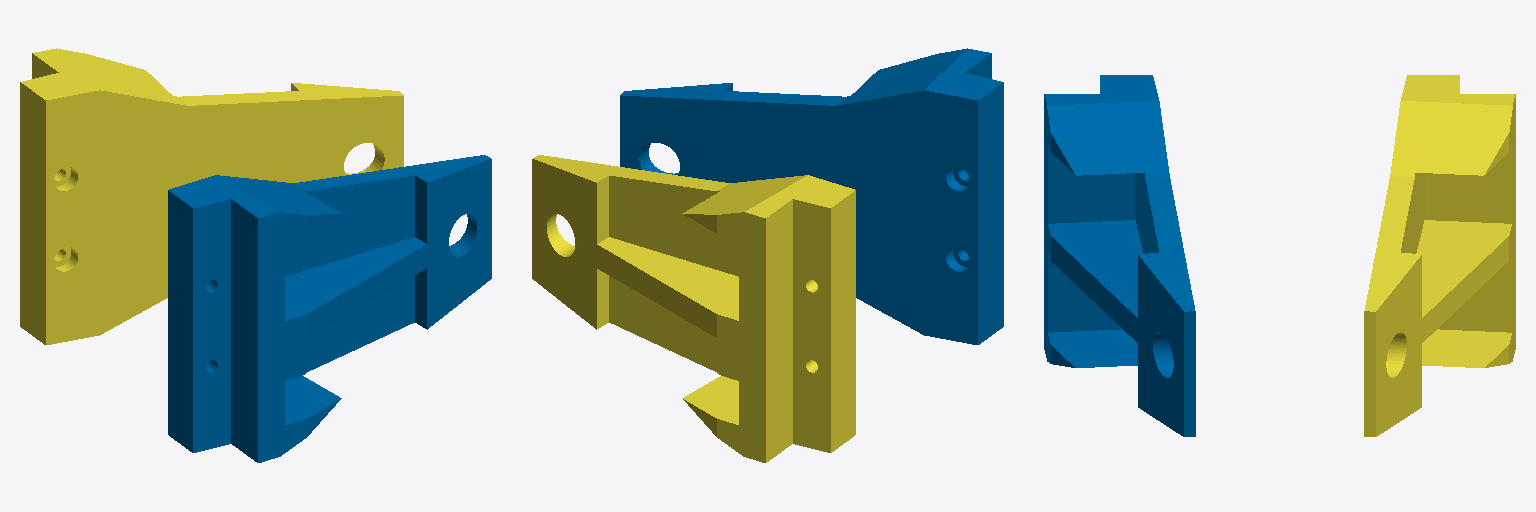
robot.urdf — vx300s:
<?xml version="1.0" ?>
<!-- =================================================================================== -->
<!-- |    This document was autogenerated by xacro from vx300s.urdf.xacro              | -->
<!-- |    EDITING THIS FILE BY HAND IS NOT RECOMMENDED                                 | -->
<!-- =================================================================================== -->
<robot name="vx300s">
  <!-- <material name="interbotix_black">
    <texture filename="meshes/interbotix_black.png"/>
  </material> -->
  <link name="vx300s/base_link">
    <visual>
      <origin rpy="0 0 1.5707963267948966" xyz="0 0 0"/>
      <geometry>
        <mesh filename="meshes/vx300s_v3_meshes/vx300s_1_base.stl" scale="0.001 0.001 0.001"/>
      </geometry>
      <!-- <material name="interbotix_black"/> -->
    </visual>
    <collision>
      <origin rpy="0 0 1.5707963267948966" xyz="0 0 0"/>
      <geometry>
        <mesh filename="meshes/vx300s_v3_meshes/vx300s_1_base.stl" scale="0.001 0.001 0.001"/>
      </geometry>
    </collision>
    <inertial>
      <origin rpy="0 0 1.5707963267948966" xyz="-0.0534774000 -0.0005625750 0.0205961000"/>
      <mass value="0.969034"/>
      <inertia ixx="0.0060240000" ixy="0.0000471300" ixz="0.0000038510" iyy="0.0017000000" iyz="-0.0000841500" izz="0.0071620000"/>
    </inertial>
  </link>
  <joint name="waist" type="revolute">
    <axis xyz="0 0 1"/>
    <limit effort="10" lower="-3.141582653589793" upper="3.141582653589793" velocity="3.141592653589793"/>
    <origin rpy="0 0 0" xyz="0 0 0.079"/>
    <parent link="vx300s/base_link"/>
    <child link="vx300s/shoulder_link"/>
    <dynamics friction="0.1"/>
  </joint>

  <link name="vx300s/shoulder_link">
    <visual>
      <origin rpy="0 0 1.5707963267948966" xyz="0 0 -0.003"/>
      <geometry>
        <mesh filename="meshes/vx300s_v3_meshes/vx300s_2_shoulder.stl" scale="0.001 0.001 0.001"/>
      </geometry>
      <!-- <material name="interbotix_black"/> -->
    </visual>
    <collision>
      <origin rpy="0 0 1.5707963267948966" xyz="0 0 -0.003"/>
      <geometry>
        <mesh filename="meshes/vx300s_v3_meshes/vx300s_2_shoulder.stl" scale="0.001 0.001 0.001"/>
      </geometry>
    </collision>
    <inertial>
      <origin rpy="0 0 1.5707963267948966" xyz="0.0002592330 -0.0000033552 0.0116129000"/>
      <mass value="0.798614"/>
      <inertia ixx="0.0009388000" ixy="-0.0000000010" ixz="-0.0000000191" iyy="0.0011380000" iyz="0.0000059568" izz="0.0012010000"/>
    </inertial>
  </link>
  <joint name="shoulder" type="revolute">
    <axis xyz="0 1 0"/>
    <limit effort="20" lower="-1.8500490071139892" upper="1.2566370614359172" velocity="3.141592653589793"/>
    <origin rpy="0 0 0" xyz="0 0 0.04805"/>
    <parent link="vx300s/shoulder_link"/>
    <child link="vx300s/upper_arm_link"/>
    <dynamics friction="0.1"/>
  </joint>

  <link name="vx300s/upper_arm_link">
    <visual>
      <origin rpy="0 0 1.5707963267948966" xyz="0 0 0"/>
      <geometry>
        <mesh filename="meshes/vx300s_v3_meshes/vx300s_3_upper_arm.stl" scale="0.001 0.001 0.001"/>
      </geometry>
      <!-- <material name="interbotix_black"/> -->
    </visual>
    <collision>
      <origin rpy="0 0 1.5707963267948966" xyz="0 0 0"/>
      <geometry>
        <mesh filename="meshes/vx300s_v3_meshes/vx300s_3_upper_arm.stl" scale="0.001 0.001 0.001"/>
      </geometry>
    </collision>
    <inertial>
      <origin rpy="0 0 1.5707963267948966" xyz="0.0206949000 0.0000000004 0.2264590000"/>
      <mass value="0.792592"/>
      <inertia ixx="0.0089250000" ixy="0.0000000000" ixz="0.0000000000" iyy="0.0089370000" iyz="0.0012010000" izz="0.0009357000"/>
    </inertial>
  </link>
  <joint name="elbow" type="revolute">
    <axis xyz="0 1 0"/>
    <limit effort="15" lower="-1.7627825445142729" upper="1.6057029118347832" velocity="3.141592653589793"/>
    <origin rpy="0 0 0" xyz="0.05955 0 0.3"/>
    <parent link="vx300s/upper_arm_link"/>
    <child link="vx300s/upper_forearm_link"/>
    <dynamics friction="0.1"/>
  </joint>

  <link name="vx300s/upper_forearm_link">
    <visual>
      <origin rpy="0 0 0" xyz="0 0 0"/>
      <geometry>
        <mesh filename="meshes/vx300s_v3_meshes/vx300s_4_upper_forearm.stl" scale="0.001 0.001 0.001"/>
      </geometry>
      <!-- <material name="interbotix_black"/> -->
    </visual>
    <collision>
      <origin rpy="0 0 0" xyz="0 0 0"/>
      <geometry>
        <mesh filename="meshes/vx300s_v3_meshes/vx300s_4_upper_forearm.stl" scale="0.001 0.001 0.001"/>
      </geometry>
    </collision>
    <inertial>
      <origin rpy="0 0 0" xyz="0.105723 0 0"/>
      <mass value="0.622228"/>
      <inertia ixx="0.0001524000" ixy="-0.0000188300" ixz="-0.0000084064" iyy="0.0013420000" iyz="0.0000012564" izz="0.0014410000"/>
    </inertial>
  </link>
  <joint name="forearm_roll" type="revolute">
    <axis xyz="1 0 0"/>
    <limit effort="2" lower="-3.141582653589793" upper="3.141582653589793" velocity="3.141592653589793"/>
    <origin rpy="0 0 0" xyz="0.2 0 0"/>
    <parent link="vx300s/upper_forearm_link"/>
    <child link="vx300s/lower_forearm_link"/>
    <dynamics friction="0.1"/>
  </joint>

  <link name="vx300s/lower_forearm_link">
    <visual>
      <origin rpy="3.141592653589793 0 0" xyz="0 0 0"/>
      <geometry>
        <mesh filename="meshes/vx300s_v3_meshes/vx300s_5_lower_forearm.stl" scale="0.001 0.001 0.001"/>
      </geometry>
      <material name="interbotix_black"/>
    </visual>
    <collision>
      <origin rpy="3.141592653589793 0 0" xyz="0 0 0"/>
      <geometry>
        <mesh filename="meshes/vx300s_v3_meshes/vx300s_5_lower_forearm.stl" scale="0.001 0.001 0.001"/>
      </geometry>
    </collision>
    <inertial>
      <origin rpy="3.141592653589793 0 0" xyz="0.0513477000 0.0068046200 0"/>
      <mass value="0.414823"/>
      <inertia ixx="0.0001753000" ixy="-0.0000852800" ixz="0" iyy="0.0005269000" iyz="0" izz="0.0005911000"/>
    </inertial>
  </link>
  <joint name="wrist_angle" type="revolute">
    <axis xyz="0 1 0"/>
    <limit effort="5" lower="-1.8675022996339325" upper="2.234021442552742" velocity="3.141592653589793"/>
    <origin rpy="0 0 0" xyz="0.1 0 0"/>
    <parent link="vx300s/lower_forearm_link"/>
    <child link="vx300s/wrist_link"/>
    <dynamics friction="0.1"/>
  </joint>

  <link name="vx300s/wrist_link">
    <visual>
      <origin rpy="0 0 1.5707963267948966" xyz="0 0 0"/>
      <geometry>
        <mesh filename="meshes/vx300s_v3_meshes/vx300s_6_wrist.stl" scale="0.001 0.001 0.001"/>
      </geometry>
      <!-- <material name="interbotix_black"/> -->
    </visual>
    <collision>
      <origin rpy="0 0 1.5707963267948966" xyz="0 0 0"/>
      <geometry>
        <mesh filename="meshes/vx300s_v3_meshes/vx300s_6_wrist.stl" scale="0.001 0.001 0.001"/>
      </geometry>
    </collision>
    <inertial>
      <origin rpy="0 0 1.5707963267948966" xyz="0.0467430000 -0.0000076652 0.0105650000"/>
      <mass value="0.115395"/>
      <inertia ixx="0.0000463100" ixy="0.0000000195" ixz="0.0000000023" iyy="0.0000451400" iyz="0.0000042002" izz="0.0000527000"/>
    </inertial>
  </link>
  <joint name="wrist_rotate" type="revolute">
    <axis xyz="1 0 0"/>
    <limit effort="1" lower="-3.141582653589793" upper="3.141582653589793" velocity="3.141592653589793"/>
    <origin rpy="0 0 0" xyz="0.069744 0 0"/>
    <parent link="vx300s/wrist_link"/>
    <child link="vx300s/gripper_link"/>
    <dynamics friction="0.1"/>
  </joint>

  <link name="vx300s/gripper_link">
    <visual>
      <origin rpy="0 0 1.5707963267948966" xyz="-0.02 0 0"/>
      <geometry>
        <mesh filename="meshes/vx300s_v3_meshes/vx300s_7_gripper.stl" scale="0.001 0.001 0.001"/>
      </geometry>
      <!-- <material name="interbotix_black"/> -->
    </visual>
    <collision>
      <origin rpy="0 0 1.5707963267948966" xyz="-0.02 0 0"/>
      <geometry>
        <mesh filename="meshes/vx300s_v3_meshes/vx300s_7_gripper.stl" scale="0.001 0.001 0.001"/>
      </geometry>
    </collision>
    <inertial>
      <origin rpy="0 0 1.5707963267948966" xyz="0.0230010000 0.0000000000 0.0115230000"/>
      <mass value="0.097666"/>
      <inertia ixx="0.0000326800" ixy="0.0000000000" ixz="0.0000000000" iyy="0.0000243600" iyz="0.0000002785" izz="0.0000211900"/>
    </inertial>
  </link>
  <joint name="ee_arm" type="fixed">
    <axis xyz="1 0 0"/>
    <origin rpy="0 0 0" xyz="0.042825 0 0"/>
    <parent link="vx300s/gripper_link"/>
    <child link="vx300s/ee_arm_link"/>
  </joint>
  <link name="vx300s/ee_arm_link">
    <inertial>
      <mass value="0.001"/>
      <inertia ixx="0.0001" ixy="0" ixz="0" iyy="0.0001" iyz="0" izz="0.0001"/>
    </inertial>
  </link>
  <joint name="gripper" type="fixed">
    <axis xyz="1 0 0"/>
    <limit effort="1" velocity="3.141592653589793"/>
    <origin rpy="0 0 0" xyz="0.005675 0 0"/>
    <parent link="vx300s/ee_arm_link"/>
    <child link="vx300s/gripper_prop_link"/>
    <dynamics friction="0.1"/>
  </joint>

  <link name="vx300s/gripper_prop_link">
    <visual>
      <origin rpy="0 0 1.5707963267948966" xyz="-0.0685 0 0"/>
      <geometry>
        <mesh filename="meshes/vx300s_v3_meshes/vx300s_8_gripper_prop.stl" scale="0.001 0.001 0.001"/>
      </geometry>
      <!-- <material name="interbotix_black"/> -->
    </visual>
    <collision>
      <origin rpy="0 0 1.5707963267948966" xyz="-0.0685 0 0"/>
      <geometry>
        <mesh filename="meshes/vx300s_v3_meshes/vx300s_8_gripper_prop.stl" scale="0.001 0.001 0.001"/>
      </geometry>
    </collision>
    <inertial>
      <origin rpy="0 0 1.5707963267948966" xyz="0.0023780000 0.0000000285 0.0000000000"/>
      <mass value="0.008009"/>
      <inertia ixx="0.0000020386" ixy="0.0000000000" ixz="0.0000006559" iyy="0.0000042979" iyz="0.0000000000" izz="0.0000023796"/>
    </inertial>
  </link>
  <!-- If the AR tag is being used, then add the AR tag mount -->
  <!-- If the gripper bar is being used, then also add the gripper bar -->
  <joint name="gripper_bar" type="fixed">
    <axis xyz="1 0 0"/>
    <origin rpy="0 0 0" xyz="0 0 0"/>
    <parent link="vx300s/ee_arm_link"/>
    <child link="vx300s/gripper_bar_link"/>
  </joint>
  <link name="vx300s/gripper_bar_link">
    <visual>
      <origin rpy="0 0 1.5707963267948966" xyz="-0.063 0 0"/>
      <geometry>
        <mesh filename="meshes/vx300s_v3_meshes/vx300s_9_gripper_bar.stl" scale="0.001 0.001 0.001"/>
      </geometry>
      <!-- <material name="interbotix_black"/> -->
    </visual>
    <collision>
      <origin rpy="0 0 1.5707963267948966" xyz="-0.063 0 0"/>
      <geometry>
        <mesh filename="meshes/vx300s_v3_meshes/vx300s_9_gripper_bar.stl" scale="0.001 0.001 0.001"/>
      </geometry>
    </collision>
    <inertial>
      <origin rpy="0 0 1.5707963267948966" xyz="0.0067940000 -0.0000004272 -0.0007760000"/>
      <mass value="0.150986"/>
      <inertia ixx="0.0000789500" ixy="-0.0000000012" ixz="0.0000001341" iyy="0.0003283000" iyz="0.0000017465" izz="0.0003095000"/>
    </inertial>
  </link>
  <joint name="ee_bar" type="fixed">
    <axis xyz="1 0 0"/>
    <origin rpy="0 0 0" xyz="0.025875 0 0"/>
    <parent link="vx300s/gripper_bar_link"/>
    <child link="vx300s/fingers_link"/>
  </joint>
  <link name="vx300s/fingers_link">
    <inertial>
      <mass value="0.001"/>
      <inertia ixx="0.0001" ixy="0" ixz="0" iyy="0.0001" iyz="0" izz="0.0001"/>
    </inertial>
  </link>
  <!-- If the gripper fingers are being used, add those as well -->
  <joint name="left_finger" type="prismatic">
    <axis xyz="0 1 0"/>
    <limit effort="5" lower="0.021" upper="0.057" velocity="1"/>
    <origin rpy="0 0 0" xyz="0 0 0"/>
    <parent link="vx300s/fingers_link"/>
    <child link="vx300s/left_finger_link"/>
    <dynamics friction="0.1"/>
  </joint>

  <link name="vx300s/left_finger_link">
    <visual>
      <origin rpy="3.141592653589793  -1.5707963267948966 -0.1047" xyz="0.012 0.013 -0.0305"/>
      <geometry>
        <mesh filename="meshes/vx300s_v3_meshes/vx300s_10_gripper_finger.stl" scale="0.001 0.001 0.001"/>
      </geometry>
      <!-- <material name="interbotix_black"/> -->
    </visual>
    <collision>
      <origin rpy="3.141592653589793  -1.5707963267948966 -0.1047" xyz="0.012 0.013 -0.0305"/>
      <geometry>
        <mesh filename="meshes/vx300s_v3_meshes/vx300s_10_gripper_finger.stl" scale="0.001 0.001 0.001"/>
      </geometry>
    </collision>
    <inertial>
      <origin rpy="3.141592653589793  -1.5707963267948966 -0.1047" xyz="0.012 0.013 -0.0305"/>
      <mass value="0.034796"/>
      <inertia ixx="0.0000243300" ixy="-0.0000024004" ixz="0.0000000000" iyy="0.0000125500" iyz="0.0000000000" izz="0.0000141700"/>
    </inertial>
  </link>

  <joint name="right_finger" type="prismatic">
    <axis xyz="0 1 0"/>
    <limit effort="5" lower="-0.057" upper="-0.021" velocity="1"/>
    <origin rpy="0 0 0" xyz="0 0 0"/>
    <parent link="vx300s/fingers_link"/>
    <child link="vx300s/right_finger_link"/>
    <dynamics friction="0.1"/>
    <!-- <mimic joint="left_finger" multiplier="-1" offset="0"/> -->
  </joint>

  <link name="vx300s/right_finger_link">
    <visual>
      <origin rpy="0.0 1.5707963267948966 0.1047 " xyz="0.012 -0.013 0.0305"/>
      <geometry>
        <mesh filename="meshes/vx300s_v3_meshes/vx300s_10_gripper_finger.stl" scale="0.001 0.001 0.001"/>
      </geometry>
      <!-- <material name="interbotix_black"/> -->
    </visual>
    <collision>
      <origin rpy="0.0 1.5707963267948966 0.1047 " xyz="0.012 -0.013 0.0305"/>
      <geometry>
        <mesh filename="meshes/vx300s_v3_meshes/vx300s_10_gripper_finger.stl" scale="0.001 0.001 0.001"/>
      </geometry>
    </collision>
    <inertial>
      <origin rpy="0.0 1.5707963267948966 0.1047 " xyz="0.012 -0.013 0.0305"/>
      <mass value="0.034796"/>
      <inertia ixx="0.0000243300" ixy="0.0000024001" ixz="0.0000000000" iyy="0.0000125500" iyz="0.0000000000" izz="0.0000141700"/>
    </inertial>
  </link>
  <joint name="ee_gripper" type="fixed">
    <axis xyz="1 0 0"/>
    <origin rpy="0 0 0" xyz="0.0385 0 0"/>
    <parent link="vx300s/fingers_link"/>
    <child link="vx300s/ee_gripper_link"/>
  </joint>
  <link name="vx300s/ee_gripper_link">
    <inertial>
      <mass value="0.001"/>
      <inertia ixx="0.0001" ixy="0" ixz="0" iyy="0.0001" iyz="0" izz="0.0001"/>
    </inertial>
  </link>
</robot>

--- Facts derived from the render (not from the file) ---
The picture shows the robot from 3 angles, left to right: view 1: azimuth 30°, elevation 25°; view 2: azimuth 150°, elevation 25°; view 3: azimuth 270°, elevation 25°; orthographic projection.
Robot: vx300s — 14 links, 13 joints (6 revolute, 2 prismatic, 5 fixed); root link vx300s/base_link; default pose: joints at zero except 2 at the middle of their limits (left_finger = 0.039, right_finger = -0.039).
Visible links, largest first — view 1: vx300s/right_finger_link, vx300s/left_finger_link; view 2: vx300s/left_finger_link, vx300s/right_finger_link; view 3: vx300s/left_finger_link, vx300s/right_finger_link.
Boxes of the visible links, <box> form: vx300s/right_finger_link: <box>168,155,491,462</box>; vx300s/left_finger_link: <box>20,48,403,344</box>; vx300s/left_finger_link: <box>532,155,855,462</box>; vx300s/right_finger_link: <box>620,48,1003,344</box>; vx300s/left_finger_link: <box>1364,75,1515,436</box>; vx300s/right_finger_link: <box>1044,75,1195,436</box>.
Size in the robot's own frame: 0.0882 by 0.102 by 0.061 metres.
2 mesh visuals loaded from 10 distinct referenced files (1 binary STL); not drawn: 9 (reference not matched to a file when rendering).